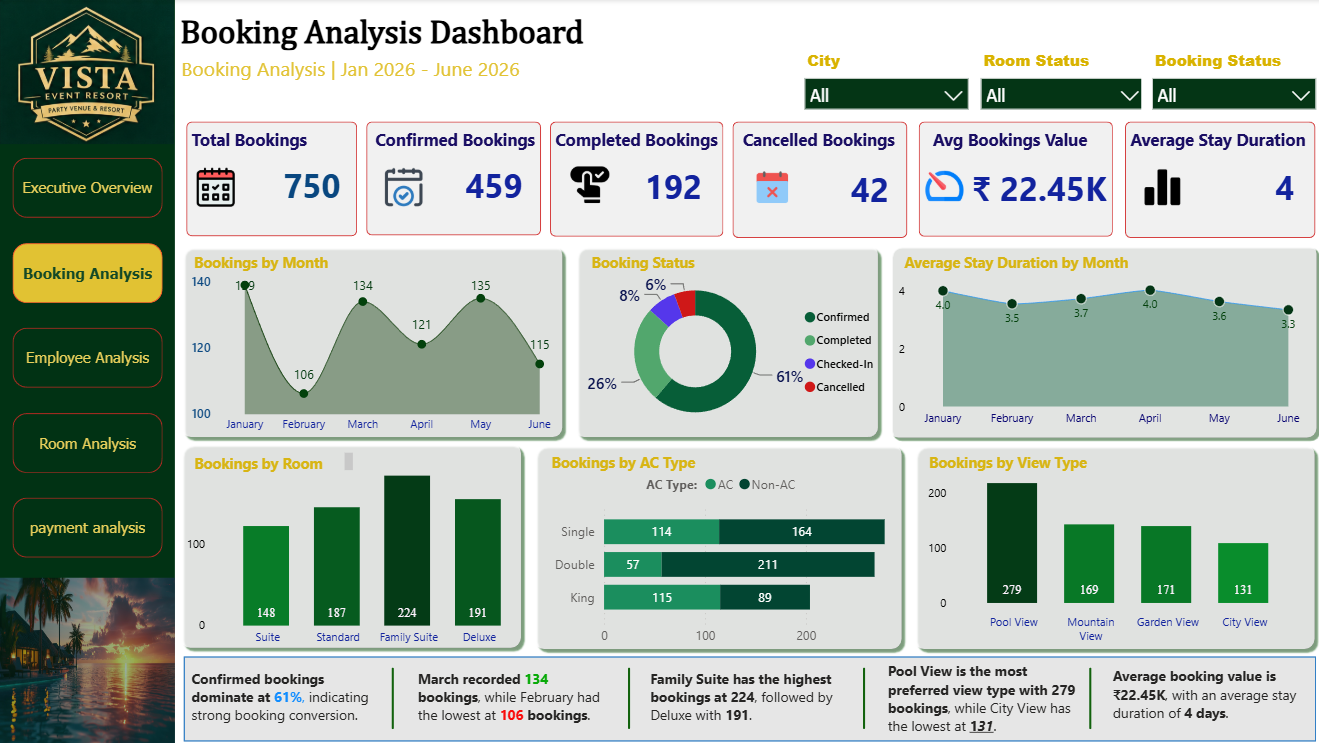

The page's visual inventory and layout, read from the dashboard file:
{"tool":"powerbi","page":{"name":"Booking Analysis","canvas":[1280,720],"ordinal":1},"visuals":[{"type":"shape","box":[1086.2,118.8,183.8,112.5],"z":0},{"type":"shape","box":[0,0,169,720],"z":1000},{"type":"textbox","box":[168.6,11.4,498.6,60],"z":2000},{"type":"shape","box":[169.1,231.8,380,197.3],"z":3000},{"type":"shape","box":[177.1,634.3,1098.6,81.4],"z":4000},{"type":"shape","box":[180,118.3,165,110.8],"z":5000},{"type":"shape","box":[353.8,118.8,168.8,110],"z":6000},{"type":"shape","box":[707.5,118.8,168.8,112.5],"z":7000},{"type":"shape","box":[531.2,118.8,167.5,111.2],"z":8000},{"type":"shape","box":[886.2,118.8,187.5,111.2],"z":9000},{"type":"image","box":[0,0,168.3,140],"z":10000},{"type":"image","box":[0,558.6,168.6,161.4],"z":11000},{"type":"textbox","box":[170,49.1,398.2,41.8],"z":12000},{"type":"cardVisual","fields":{"Data":["Booking_Dataset_Fact_Table.total_booking"]},"box":[180,130,166.2,96.2],"z":13000},{"type":"cardVisual","fields":{"Data":["Table.Completed_Booking"]},"box":[523.6,131.5,171.2,97.5],"z":14000},{"type":"cardVisual","fields":{"Data":["Table.Avg.booking value"]},"box":[918.1,131.5,167.7,100.1],"z":15000},{"type":"shape","box":[549.1,231.8,304.5,197.3],"z":16000},{"type":"shape","box":[853.3,232,422.7,196.7],"z":17000},{"type":"shape","box":[167.5,422.5,341.2,210],"z":18000},{"type":"shape","box":[509.1,423.6,367.3,210],"z":19000},{"type":"shape","box":[876.4,423.6,399.1,210],"z":20000},{"type":"pageNavigator","box":[12.1,153.2,145.7,387.1],"z":21000},{"type":"slicer","fields":{"Values":["Room_Dataset.Room_Status"]},"box":[935.7,42.9,178.6,70],"z":22000},{"type":"slicer","fields":{"Values":["Booking_Dataset_Fact_Table.Booking_Status"]},"box":[1101.4,42.9,178.6,70],"z":23000},{"type":"cardVisual","fields":{"Data":["Table.avg stay duration"]},"box":[1088.8,132.5,178.8,97.5],"z":24000},{"type":"cardVisual","fields":{"Data":["Table.Cancelled_booking"]},"box":[707.5,133.8,168.8,98.8],"z":25000},{"type":"cardVisual","fields":{"Data":["Table.confirm_booking"]},"box":[353.8,128.8,168.8,98.8],"z":26000},{"type":"lineChart","fields":{"Category":["Booking_Dataset_Fact_Table.Booking_Date.Variation.Date Hierarchy.Month","Booking_Dataset_Fact_Table.Booking_Date.Variation.Date Hierarchy.Day"],"Y":["CountNonNull(Booking_Dataset_Fact_Table.Booking_ID)"]},"box":[180,260.9,369.1,161.8],"z":27000},{"type":"donutChart","fields":{"Category":["Booking_Dataset_Fact_Table.Booking_Status"],"Y":["Booking_Dataset_Fact_Table.total_booking"]},"box":[566.2,252.5,286.2,176.2],"z":28000},{"type":"lineChart","fields":{"Category":["Payment_Dataset.Payment_Date.Variation.Date Hierarchy.Month"],"Y":["Table.avg stay duration"]},"box":[867.3,266.4,402.7,152.7],"z":29000},{"type":"clusteredColumnChart","fields":{"Category":["Room_Dataset.Room_Type"],"Y":["CountNonNull(Payment_Dataset.Booking_ID)"]},"box":[175.5,446.4,343.6,186.4],"z":30000},{"type":"clusteredColumnChart","fields":{"Category":["Room_Dataset.View_Type"],"Y":["CountNonNull(Payment_Dataset.Booking_ID)"]},"box":[895.5,453.6,361.8,176.4],"z":31000},{"type":"barChart","fields":{"Category":["Room_Dataset.Bed_Type"],"Series":["Room_Dataset.AC_Type"],"Y":["CountNonNull(Booking_Dataset_Fact_Table.Booking_ID)"]},"box":[527.3,449.1,341.8,183.6],"z":32000},{"type":"slicer","fields":{"Values":["Employee_Dataset.City"]},"box":[766.1,43.4,178.6,70],"z":33000},{"type":"textbox","box":[180,120,132.5,40],"z":34000},{"type":"textbox","box":[357.1,119.4,170.1,41],"z":35000},{"type":"textbox","box":[530.8,119.4,182.2,41],"z":36000},{"type":"textbox","box":[711.8,119.4,159.3,41],"z":37000},{"type":"textbox","box":[895,120,178.8,40],"z":38000},{"type":"textbox","box":[1086.2,120,193.8,40],"z":39000},{"type":"image","box":[188.8,162.5,40,37.5],"z":40000},{"type":"image","box":[368.8,162.5,41.2,37.5],"z":41000},{"type":"image","box":[548.8,160,41.2,37.5],"z":42000},{"type":"image","box":[725,162.5,41.2,37.5],"z":43000},{"type":"image","box":[886.7,161.7,49.5,37.4],"z":44000},{"type":"image","box":[1101.2,162.5,41.2,37.5],"z":45000},{"type":"textbox","box":[182.5,240,163.8,30],"z":46000},{"type":"textbox","box":[565.7,240,163.6,30],"z":47000},{"type":"textbox","box":[863.6,240,293.6,30],"z":48000},{"type":"textbox","box":[181.8,433.6,163.6,30],"z":49000},{"type":"textbox","box":[527.3,433.6,163.6,30],"z":50000},{"type":"textbox","box":[891.8,433.6,163.6,30],"z":51000},{"type":"shape","box":[359.2,645,39.2,59.2],"z":52000},{"type":"shape","box":[587.5,645,39.2,59.2],"z":53000},{"type":"shape","box":[814.2,645,39.2,59.2],"z":54000},{"type":"shape","box":[1032.5,645,39.2,59.2],"z":55000},{"type":"textbox","box":[180,642,192,65],"z":56000},{"type":"textbox","box":[398,642,192,65],"z":57000},{"type":"textbox","box":[622,642,192,65],"z":58000},{"type":"textbox","box":[852,634,200,81],"z":59000},{"type":"textbox","box":[1069,639,192,65],"z":60000}]}

Visuals, with their boxes in screenshot pixels (x1, y1, x2, y2), scaled from the page's 1280x720 canvas onto the 1319x743 screenshot:
shape: crop(1119, 123, 1309, 239)
shape: crop(0, 0, 174, 742)
textbox: crop(174, 12, 688, 74)
shape: crop(174, 239, 566, 443)
shape: crop(182, 655, 1315, 739)
shape: crop(185, 122, 356, 236)
shape: crop(365, 123, 539, 236)
shape: crop(729, 123, 903, 239)
shape: crop(547, 123, 720, 237)
shape: crop(913, 123, 1106, 237)
image: crop(0, 0, 173, 144)
image: crop(0, 576, 174, 742)
textbox: crop(175, 51, 586, 94)
cardVisual - Booking_Dataset_Fact_Table.total_booking: crop(185, 134, 357, 233)
cardVisual - Table.Completed_Booking: crop(540, 136, 716, 236)
cardVisual - Table.Avg.booking value: crop(946, 136, 1119, 239)
shape: crop(566, 239, 880, 443)
shape: crop(879, 239, 1315, 442)
shape: crop(173, 436, 524, 653)
shape: crop(525, 437, 903, 654)
shape: crop(903, 437, 1314, 654)
pageNavigator: crop(12, 158, 163, 558)
slicer - Room_Dataset.Room_Status: crop(964, 44, 1148, 117)
slicer - Booking_Dataset_Fact_Table.Booking_Status: crop(1135, 44, 1318, 117)
cardVisual - Table.avg stay duration: crop(1122, 137, 1306, 237)
cardVisual - Table.Cancelled_booking: crop(729, 138, 903, 240)
cardVisual - Table.confirm_booking: crop(365, 133, 539, 235)
lineChart - Booking_Dataset_Fact_Table.Booking_Date.Variation.Date Hierarchy.Month x Booking_Dataset_Fact_Table.Booking_Date.Variation.Date Hierarchy.Day: crop(185, 269, 566, 436)
donutChart - Booking_Dataset_Fact_Table.Booking_Status x Booking_Dataset_Fact_Table.total_booking: crop(583, 261, 878, 442)
lineChart - Payment_Dataset.Payment_Date.Variation.Date Hierarchy.Month x Table.avg stay duration: crop(894, 275, 1309, 432)
clusteredColumnChart - Room_Dataset.Room_Type x CountNonNull(Payment_Dataset.Booking_ID): crop(181, 461, 535, 653)
clusteredColumnChart - Room_Dataset.View_Type x CountNonNull(Payment_Dataset.Booking_ID): crop(923, 468, 1296, 650)
barChart - Room_Dataset.Bed_Type x Room_Dataset.AC_Type: crop(543, 463, 896, 653)
slicer - Employee_Dataset.City: crop(789, 45, 973, 117)
textbox: crop(185, 124, 322, 165)
textbox: crop(368, 123, 543, 166)
textbox: crop(547, 123, 735, 166)
textbox: crop(733, 123, 898, 166)
textbox: crop(922, 124, 1107, 165)
textbox: crop(1119, 124, 1318, 165)
image: crop(195, 168, 236, 206)
image: crop(380, 168, 422, 206)
image: crop(566, 165, 608, 204)
image: crop(747, 168, 790, 206)
image: crop(914, 167, 965, 205)
image: crop(1135, 168, 1177, 206)
textbox: crop(188, 248, 357, 279)
textbox: crop(583, 248, 752, 279)
textbox: crop(890, 248, 1192, 279)
textbox: crop(187, 447, 356, 478)
textbox: crop(543, 447, 712, 478)
textbox: crop(919, 447, 1088, 478)
shape: crop(370, 666, 411, 727)
shape: crop(605, 666, 646, 727)
shape: crop(839, 666, 879, 727)
shape: crop(1064, 666, 1104, 727)
textbox: crop(185, 663, 383, 730)
textbox: crop(410, 663, 608, 730)
textbox: crop(641, 663, 839, 730)
textbox: crop(878, 654, 1084, 738)
textbox: crop(1102, 659, 1299, 726)
